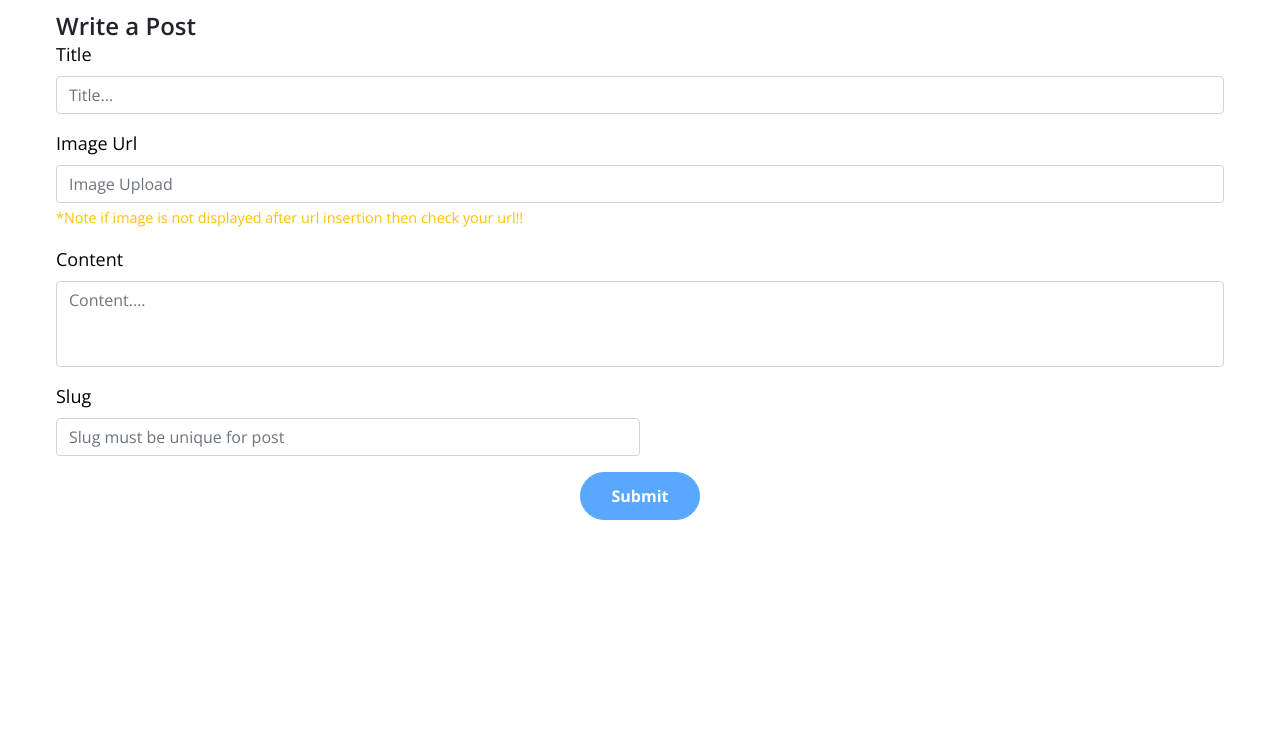
Scenario: Unit tests for CreatePost component › Validations Checking on title
Type "Ti" into the field with test id "inputtitle". click: point(640, 95)
box: [56,76,1224,114]
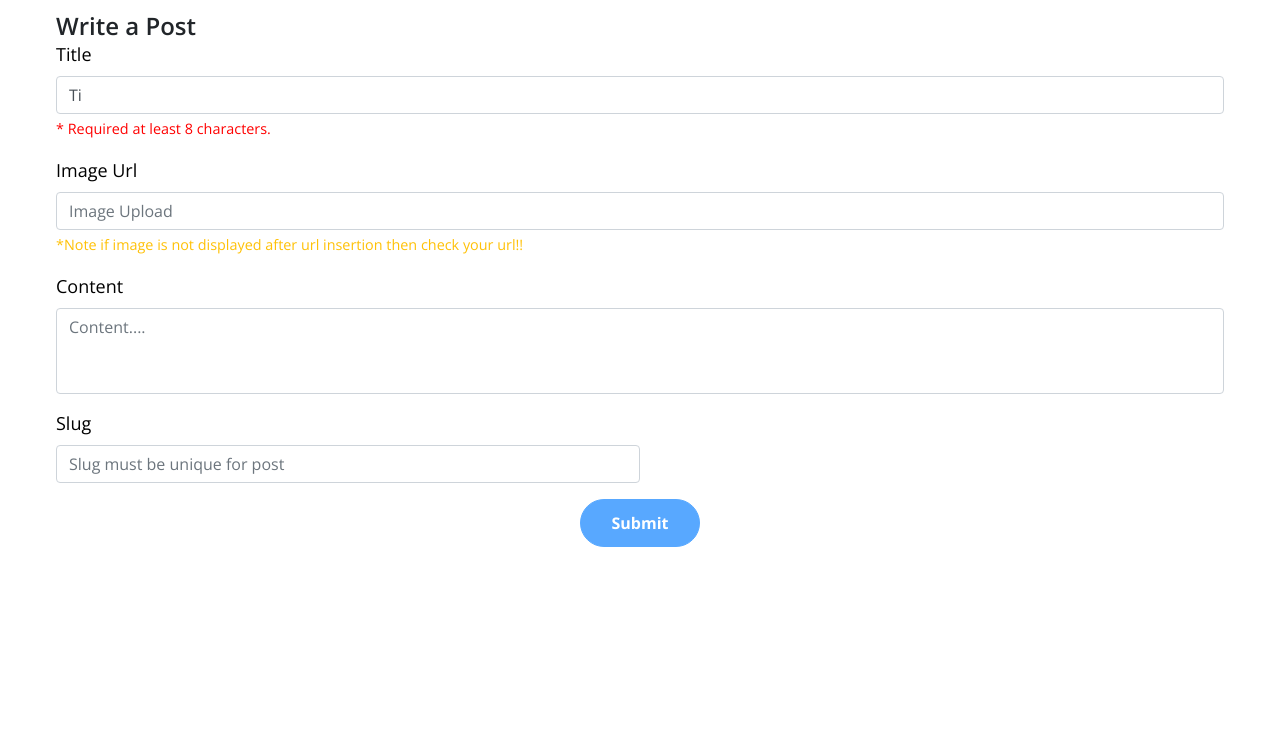
Now the text "* Required at least 8 characters." is shown, box [56,119,271,138]
Replace the text in the field with test id "inputtitle" with "Title of the Day". click: point(640, 95)
box: [56,76,1224,114]
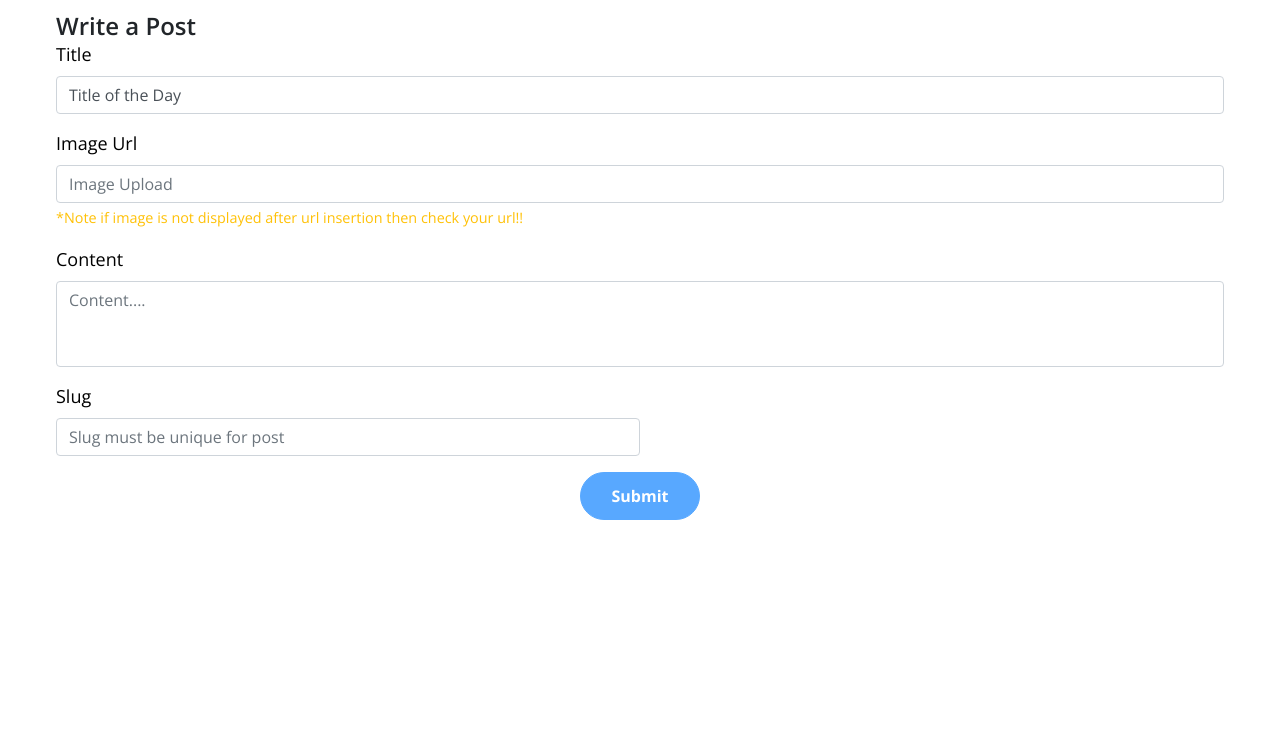
Now the text with test id "errorTitle" is gone
